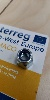Nut: (14, 46, 36, 70)
